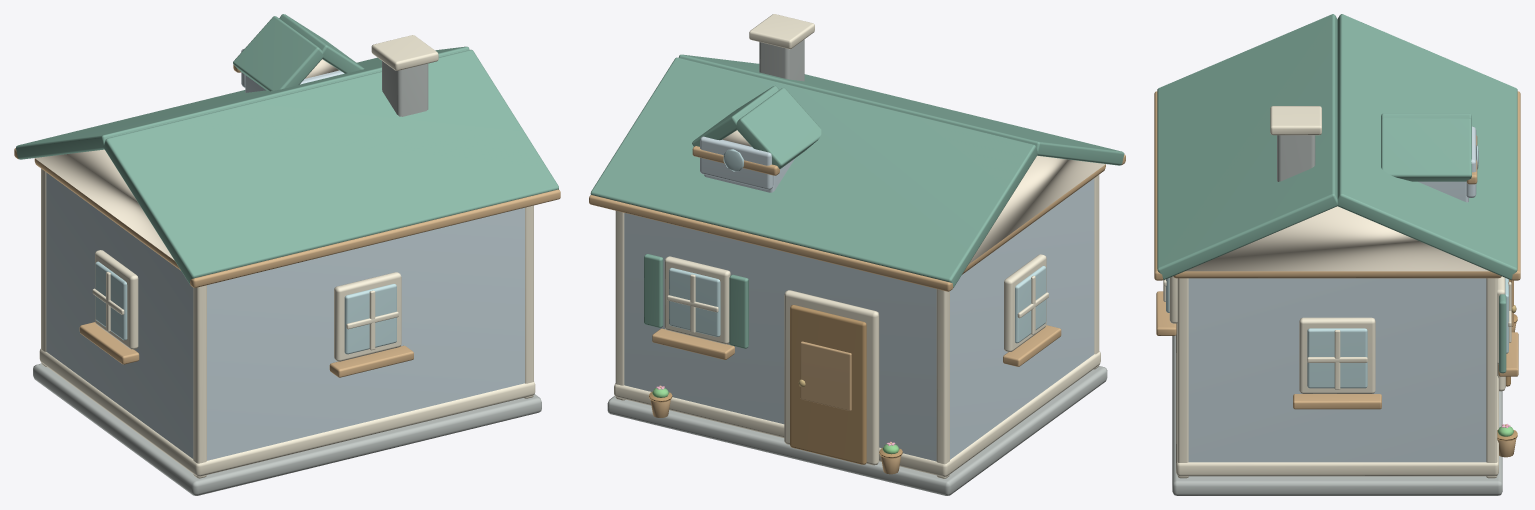
Rendered from cottage_7.glb.
3 views of the same model, side by side, from view 1: azimuth 30°, elevation 25°; view 2: azimuth 150°, elevation 25°; view 3: azimuth 270°, elevation 25° (orthographic). The views are drawn at different scales.
Size of the model in its own units: 4.12 by 3.58 by 3.46.
